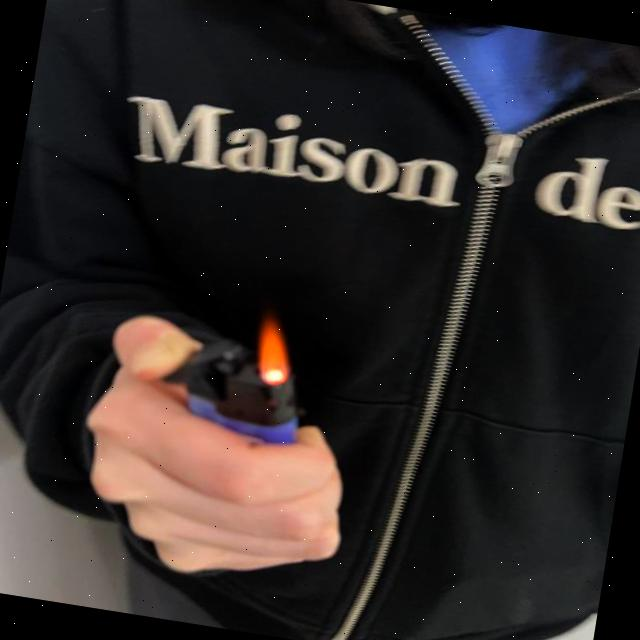fire: (250, 312, 300, 390)
